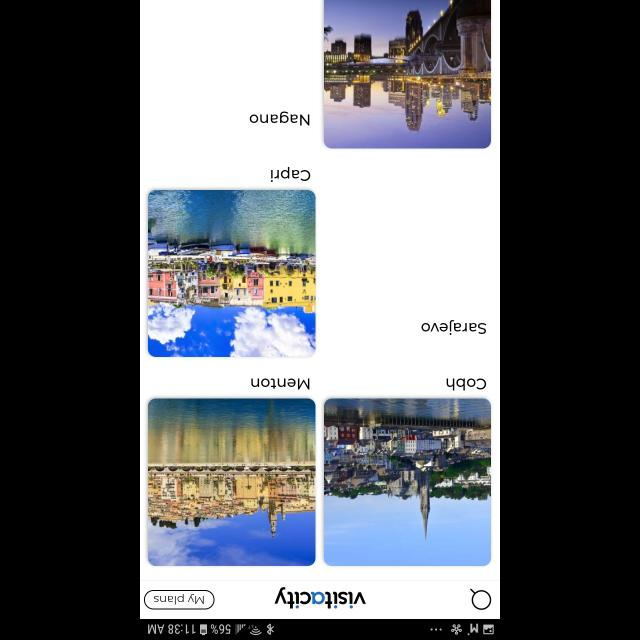icon: (470, 588, 490, 610)
image: (324, 398, 491, 566), (148, 190, 316, 356), (148, 398, 314, 566), (324, 0, 491, 149), (274, 587, 366, 609)
text: (420, 320, 486, 336), (249, 110, 309, 126), (250, 378, 310, 390), (270, 166, 310, 182), (446, 378, 486, 390)
textbutton: (143, 590, 214, 610)
uppertaskbar: (140, 618, 500, 640)
